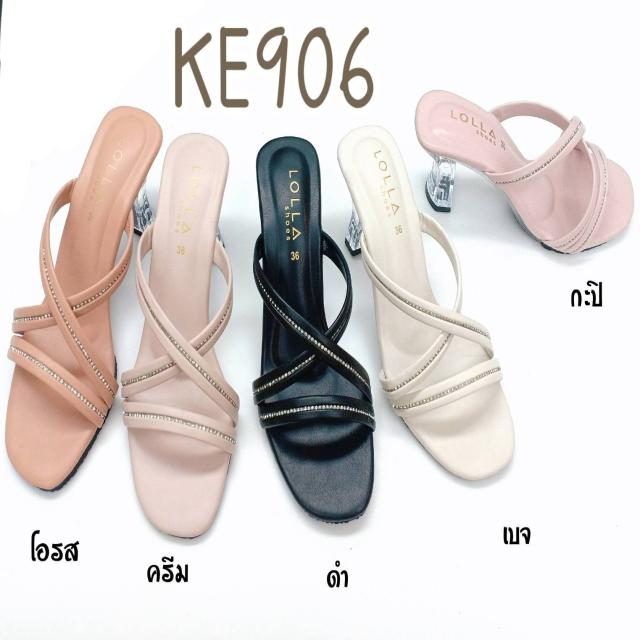bej: (334, 118, 524, 504)
black: (248, 121, 377, 524)
cream: (130, 119, 240, 550)
kapi: (407, 76, 637, 276)
orot: (3, 94, 161, 510)
